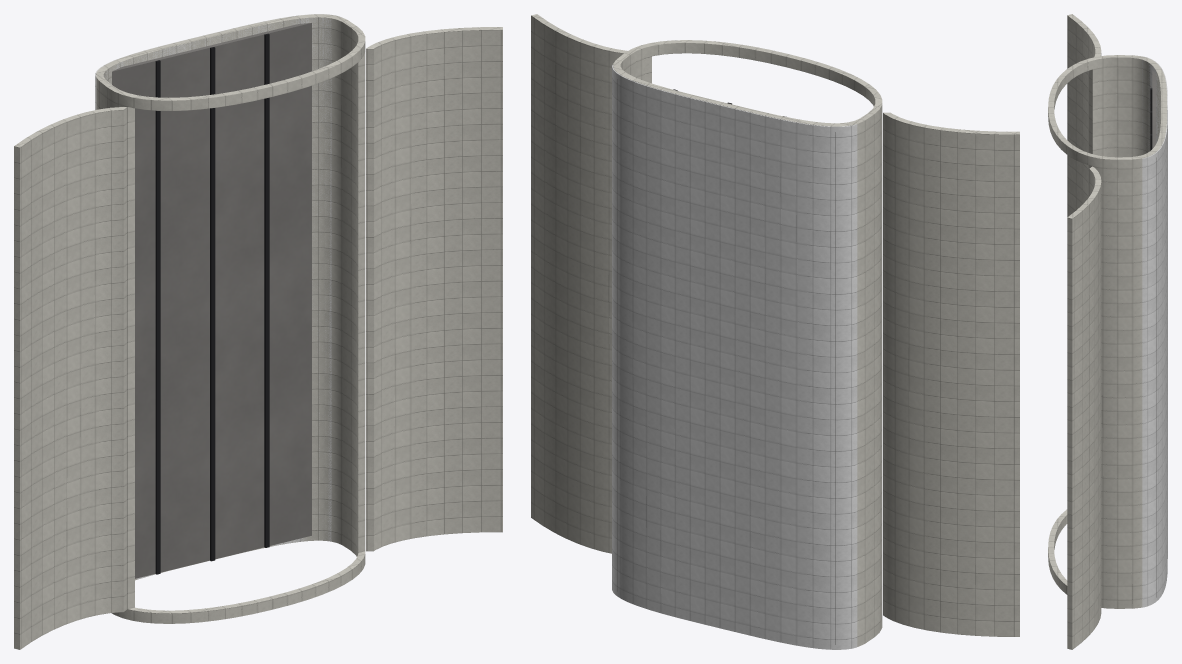
File: aero03_cargo_bay_mk2_500_open.glb
3 renders of one model, left to right at view 1: azimuth 30°, elevation 25°; view 2: azimuth 150°, elevation 25°; view 3: azimuth 270°, elevation 25°, orthographic. The views are drawn at different scales.
Parts seen in each view (by area): view 1: cargo_floor, door_r, door_l, fuselage, floor_rails, belly_tiles; view 2: belly_tiles, door_l, door_r, fuselage, cargo_floor; view 3: fuselage, door_r, belly_tiles, door_l, cargo_floor.
Part boxes in pixels (x1=…): cargo_floor: x1=112, y1=23, x2=311, y2=578; door_r: x1=366, y1=27, x2=502, y2=551; door_l: x1=14, y1=107, x2=127, y2=649; fuselage: x1=96, y1=14, x2=365, y2=623; floor_rails: x1=155, y1=33, x2=269, y2=574; belly_tiles: x1=95, y1=14, x2=339, y2=579; belly_tiles: x1=612, y1=65, x2=857, y2=649; door_l: x1=883, y1=112, x2=1019, y2=636; door_r: x1=531, y1=14, x2=627, y2=553; fuselage: x1=613, y1=40, x2=882, y2=646; cargo_floor: x1=617, y1=79, x2=835, y2=644; fuselage: x1=1048, y1=55, x2=1166, y2=608; door_r: x1=1067, y1=166, x2=1101, y2=649; belly_tiles: x1=1142, y1=56, x2=1167, y2=607; door_l: x1=1067, y1=14, x2=1101, y2=216; cargo_floor: x1=1152, y1=70, x2=1156, y2=597.
Size of the model in its own units: 4.89 by 5 by 1.21.
4 materials, 3 textured.
